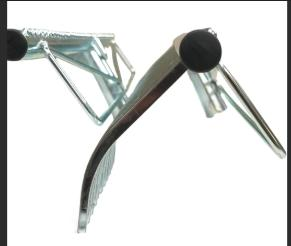RATEAU: (1, 13, 291, 246)
